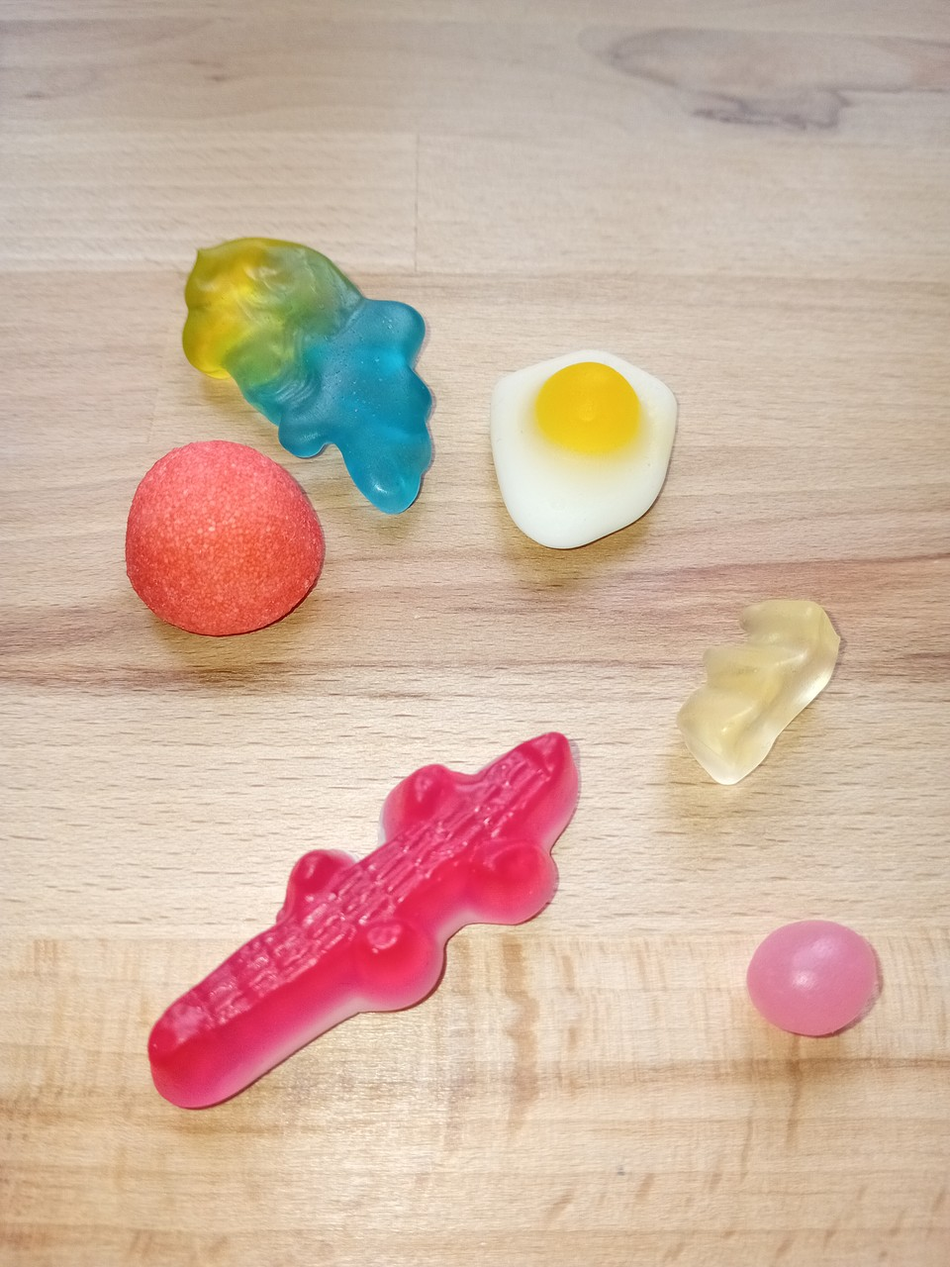crocodile_rouge: (139, 722, 587, 1114)
dragibus_rose: (738, 912, 889, 1047)
oeuf_oeuf: (482, 338, 684, 553)
ourson_blanc: (669, 592, 847, 786)
schtroumpf_bleu-jaune: (171, 232, 443, 520)
tagada_fraise: (117, 437, 333, 639)
